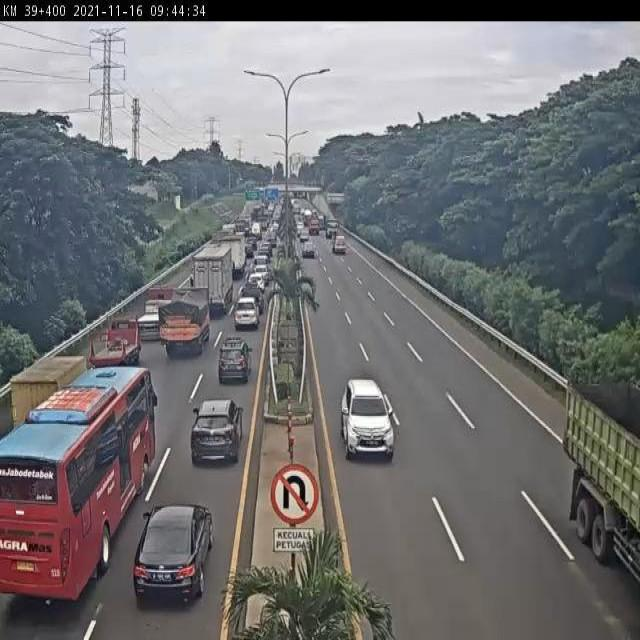big bus: (1, 369, 157, 603)
car: (135, 506, 213, 606), (338, 377, 394, 459), (189, 398, 243, 466), (217, 337, 252, 383), (232, 302, 257, 334), (241, 289, 264, 312), (247, 270, 266, 290)
truck-l-: (565, 382, 640, 598), (191, 244, 234, 311)
truck-m-: (13, 344, 102, 428), (155, 291, 207, 360), (86, 317, 137, 372), (136, 286, 175, 338), (216, 239, 244, 280)
